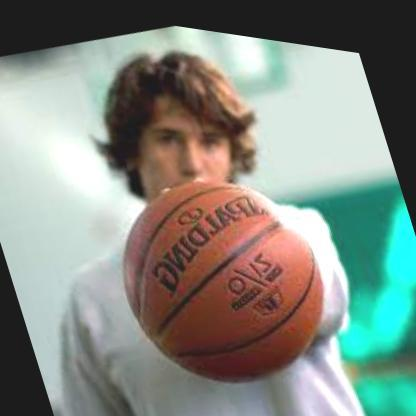basketball: (98, 139, 345, 413)
